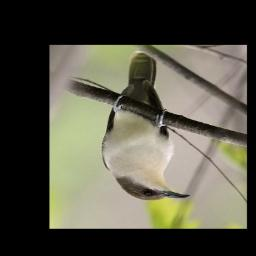Cuckoo: (101, 50, 191, 201)
